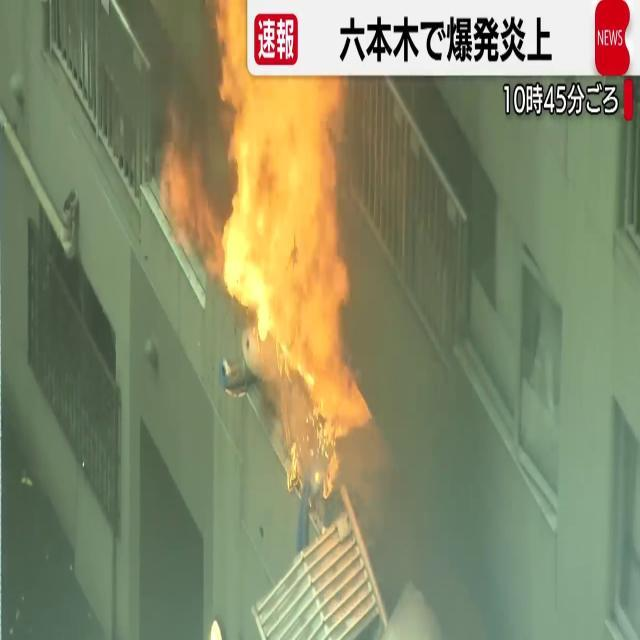Fire: (212, 36, 371, 470)
